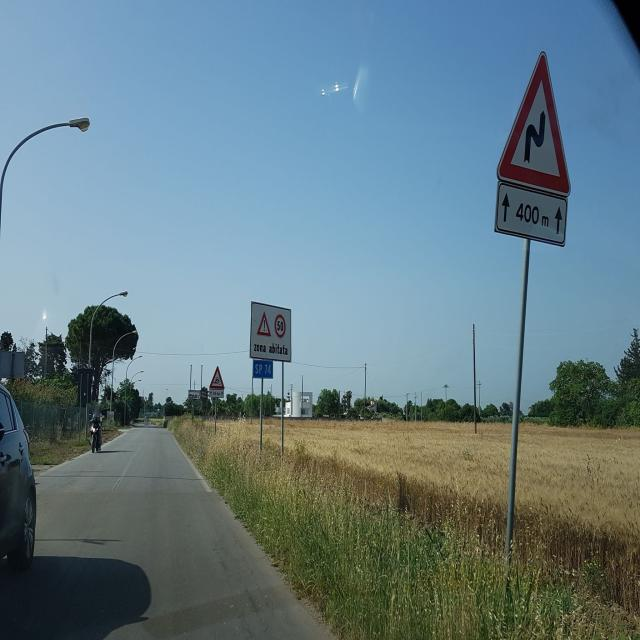bike: (90, 410, 103, 454)
car: (0, 367, 37, 632)
